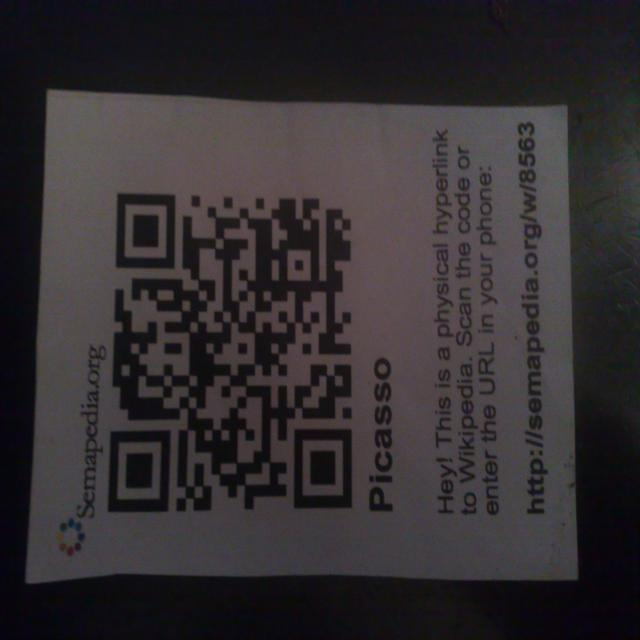qrcode: (110, 195, 352, 513)
